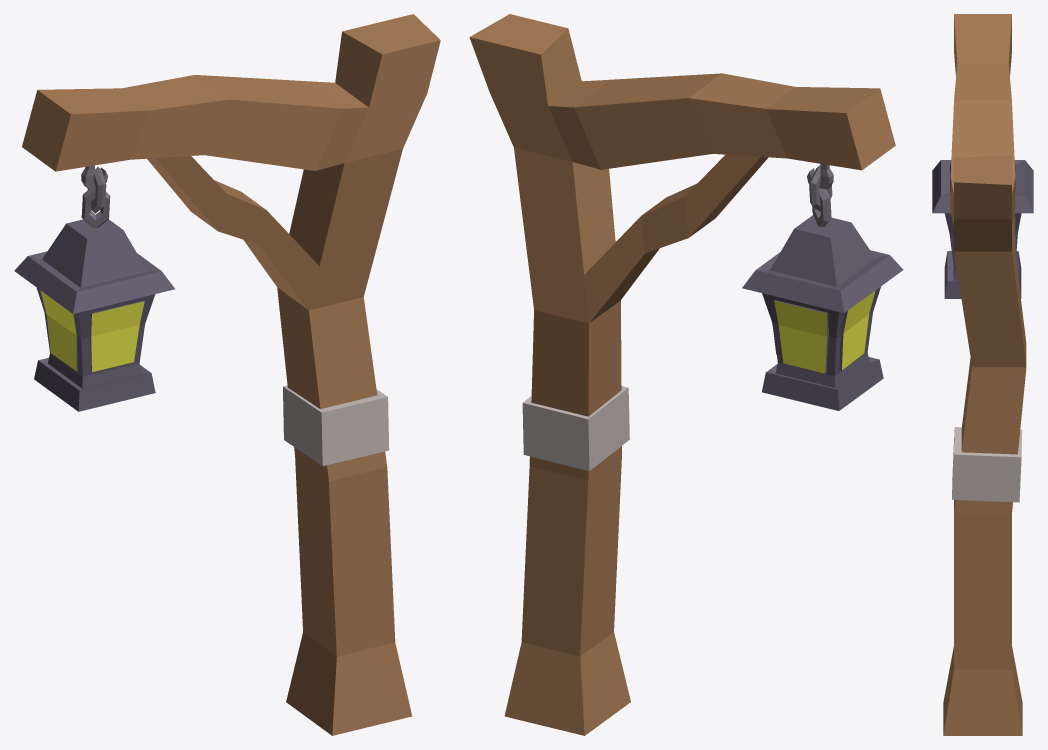
File: lantern.fbx
The picture shows the model from 3 angles, left to right: view 1: azimuth 30°, elevation 25°; view 2: azimuth 150°, elevation 25°; view 3: azimuth 270°, elevation 25°; orthographic projection. The views are drawn at different scales.
Parts seen in each view (by area): view 1: chains1; view 2: chains1; view 3: chains1.
Boxes of the visible parts, x1,y1,x2,y2 form: chains1: (14,14,440,735); chains1: (469,14,903,735); chains1: (932,14,1033,735).
Bounding box in the file's own units: 7.63 × 12.64 × 1.99.
